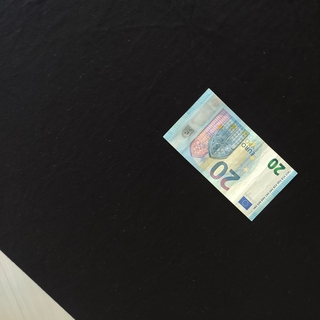20EUROFront: (162, 88, 298, 221)
